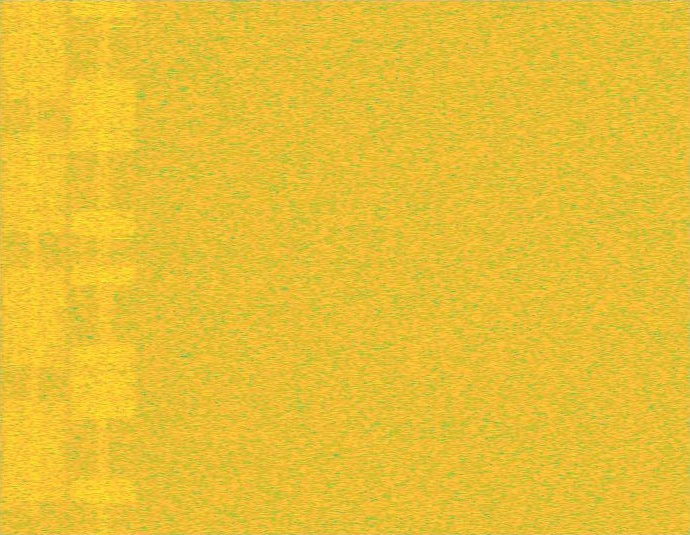5G: (0, 0, 69, 534)
DSSS: (96, 0, 111, 534), (30, 0, 39, 534)
LTE: (69, 0, 138, 534)
Radar: (113, 0, 127, 534)
